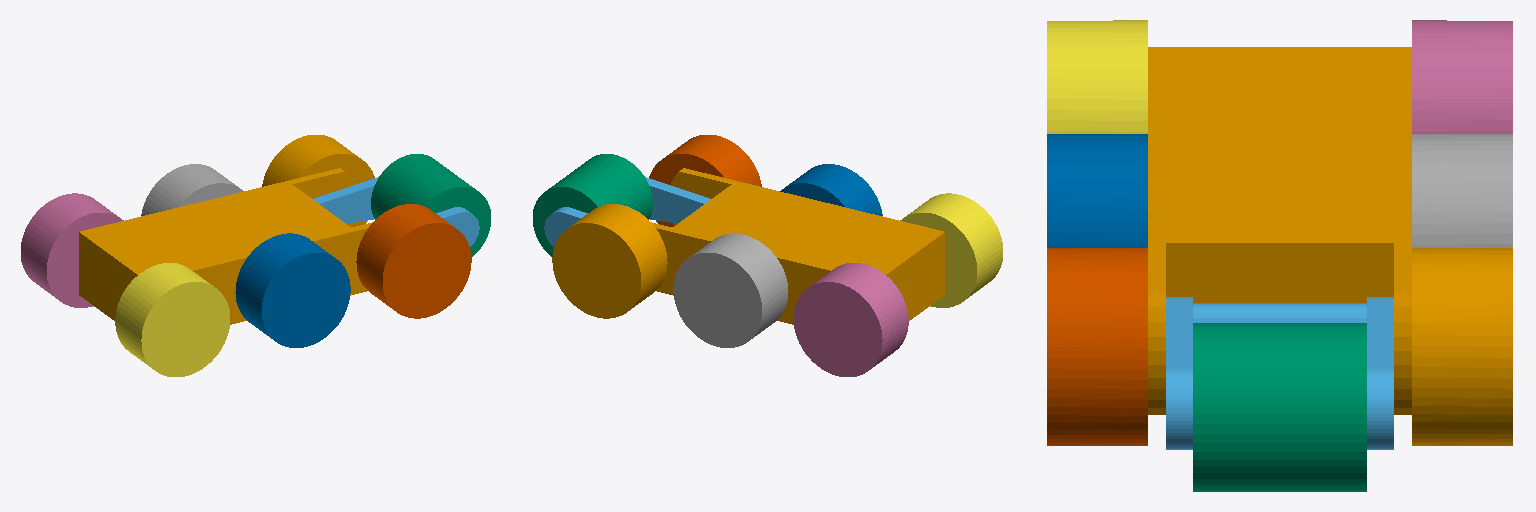
The robot description file, URDF, robot "fire_robot":
<?xml version="1.0"?>
<robot name="fire_robot">

  <!-- ========== base_link (루트) ========== -->
  <link name="base_link">
    <inertial>
      <origin xyz="0 0 0" rpy="0 0 0"/>
      <mass value="6.0"/>
      <inertia ixx="0.02" ixy="0" ixz="0" iyy="0.02" iyz="0" izz="0.02"/>
    </inertial>
    <visual>
      <origin xyz="0 0 0" rpy="0 0 0"/>
      <geometry>
        <mesh filename="package://fire_description/meshes/fire_robot/base_link_Body1.obj" scale="0.001 0.001 0.001"/>
      </geometry>
    </visual>
    <collision>
      <origin xyz="0 0 0" rpy="0 0 0"/>
      <geometry>
        <mesh filename="package://fire_description/meshes/fire_robot/base_link_Body1.obj" scale="0.001 0.001 0.001"/>
      </geometry>
    </collision>
  </link>

  <!-- ========== ARM ========== -->
  <joint name="arm_RevoluteJoint" type="revolute">
    <origin xyz="0.2765 0 0" rpy="0 0 0"/>
    <parent link="base_link"/>
    <child link="arm"/>
    <axis xyz="0 1 0"/>
    <limit lower="-0.5" upper="0.5" effort="50" velocity="1.0"/>
    <dynamics damping="0.05" friction="0.0"/>
  </joint>

  <link name="arm">
    <inertial>
      <origin xyz="0 0 0" rpy="0 0 0"/>
      <mass value="0.4"/>
      <inertia ixx="0.001" ixy="0" ixz="0" iyy="0.001" iyz="0" izz="0.001"/>
    </inertial>
    <visual>
      <!-- arm 메시가 절대 x=+0.2765였으므로 역오프셋 -->
      <origin xyz="-0.2765 0 0" rpy="0 0 0"/>
      <geometry>
        <mesh filename="package://fire_description/meshes/fire_robot/arm_Body1.obj" scale="0.001 0.001 0.001"/>
      </geometry>
    </visual>
    <collision>
      <origin xyz="-0.2765 0 0" rpy="0 0 0"/>
      <geometry>
        <mesh filename="package://fire_description/meshes/fire_robot/arm_Body1.obj" scale="0.001 0.001 0.001"/>
      </geometry>
    </collision>
  </link>

  <!-- ========== BLADE ========== -->
  <joint name="blade_RevoluteJoint" type="continuous">
    <!-- arm 기준: 0.5165 - 0.2765 = 0.2400 -->
    <origin xyz="0.2400 0 0" rpy="0 0 0"/>
    <parent link="arm"/>
    <child link="blade"/>
    <axis xyz="0 1 0"/>
    <dynamics damping="0.05" friction="0.0"/>
  </joint>

  <link name="blade">
    <inertial>
      <origin xyz="0 0 0" rpy="0 0 0"/>
      <mass value="2.7"/>
      <inertia ixx="0.005" ixy="0" ixz="0" iyy="0.005" iyz="0" izz="0.005"/>
    </inertial>
    <visual>
      <!-- blade 메시 절대 x=+0.5165 → 역오프셋 -->
      <origin xyz="-0.5165 0 0" rpy="0 0 0"/>
      <geometry>
        <mesh filename="package://fire_description/meshes/fire_robot/blade_Body1.obj" scale="0.001 0.001 0.001"/>
      </geometry>
    </visual>
    <collision>
      <origin xyz="-0.5165 0 0" rpy="0 0 0"/>
      <geometry>
        <mesh filename="package://fire_description/meshes/fire_robot/blade_Body1.obj" scale="0.001 0.001 0.001"/>
      </geometry>
    </collision>
  </link>

  <!-- ========== LEFT WHEELS (parent=base_link) ========== -->
  <joint name="left_wheel1_RevoluteJoint" type="continuous">
    <origin xyz="-0.2935 -0.15743 0" rpy="0 0 0"/>
    <parent link="base_link"/><child link="left_wheel1"/>
    <axis xyz="0 1 0"/><dynamics damping="0.05" friction="0.0"/>
    <limit effort="30" velocity="0.26"/>
  </joint>
  <link name="left_wheel1">
    <inertial><origin xyz="0 0 0" rpy="0 0 0"/>
      <mass value="2.5"/><inertia ixx="0.002" ixy="0" ixz="0" iyy="0.002" iyz="0" izz="0.002"/></inertial>
    <visual>
      <!-- 메시 절대 (-0.2935, -0.15743, 0) → 역오프셋 (+0.2935, +0.15743, 0) -->
      <origin xyz="0.2935 0.15743 0" rpy="0 0 0"/>
      <geometry><mesh filename="package://fire_description/meshes/fire_robot/left_wheel1_Body1.obj" scale="0.001 0.001 0.001"/></geometry>
    </visual>
    <collision>
      <origin xyz="0.2935 0.15743 0" rpy="0 0 0"/>
      <geometry><mesh filename="package://fire_description/meshes/fire_robot/left_wheel1_Body1.obj" scale="0.001 0.001 0.001"/></geometry>
    </collision>
  </link>

  <joint name="left_wheel2_RevoluteJoint" type="continuous">
    <origin xyz="0.025 -0.15743 0" rpy="0 0 0"/>
    <parent link="base_link"/><child link="left_wheel2"/>
    <axis xyz="0 1 0"/><dynamics damping="0.05" friction="0.0"/>
    <limit effort="30" velocity="0.26"/>
  </joint>
  <link name="left_wheel2">
    <inertial><origin xyz="0 0 0" rpy="0 0 0"/>
      <mass value="2.5"/><inertia ixx="0.002" ixy="0" ixz="0" iyy="0.002" iyz="0" izz="0.002"/></inertial>
    <visual>
      <!-- 절대 (0.025, -0.15743, 0) → 역오프셋 (-0.025, +0.15743, 0) -->
      <origin xyz="-0.025 0.15743 0" rpy="0 0 0"/>
      <geometry><mesh filename="package://fire_description/meshes/fire_robot/left_wheel2_Body1.obj" scale="0.001 0.001 0.001"/></geometry>
    </visual>
    <collision>
      <origin xyz="-0.025 0.15743 0" rpy="0 0 0"/>
      <geometry><mesh filename="package://fire_description/meshes/fire_robot/left_wheel2_Body1.obj" scale="0.001 0.001 0.001"/></geometry>
    </collision>
  </link>

  <joint name="left_wheel3_RevoluteJoint" type="continuous">
    <origin xyz="0.3455 -0.15743 0" rpy="0 0 0"/>
    <parent link="base_link"/><child link="left_wheel3"/>
    <axis xyz="0 1 0"/><dynamics damping="0.05" friction="0.0"/>
    <limit effort="30" velocity="0.26"/>
  </joint>
  <link name="left_wheel3">
    <inertial><origin xyz="0 0 0" rpy="0 0 0"/>
      <mass value="2.5"/><inertia ixx="0.002" ixy="0" ixz="0" iyy="0.002" iyz="0" izz="0.002"/></inertial>
    <visual>
      <!-- 절대 (0.3455, -0.15743, 0) → 역오프셋 (-0.3455, +0.15743, 0) -->
      <origin xyz="-0.3455 0.15743 0" rpy="0 0 0"/>
      <geometry><mesh filename="package://fire_description/meshes/fire_robot/left_wheel3_Body1.obj" scale="0.001 0.001 0.001"/></geometry>
    </visual>
    <collision>
      <origin xyz="-0.3455 0.15743 0" rpy="0 0 0"/>
      <geometry><mesh filename="package://fire_description/meshes/fire_robot/left_wheel3_Body1.obj" scale="0.001 0.001 0.001"/></geometry>
    </collision>
  </link>

  <!-- ========== RIGHT WHEELS ========== -->
  <joint name="right_wheel1_RevoluteJoint" type="continuous">
    <origin xyz="-0.2935 0.15743 0" rpy="0 0 0"/>
    <parent link="base_link"/><child link="right_wheel1"/>
    <axis xyz="0 1 0"/><dynamics damping="0.05" friction="0.0"/>
    <limit effort="30" velocity="0.26"/>
  </joint>
  <link name="right_wheel1">
    <inertial><origin xyz="0 0 0" rpy="0 0 0"/>
      <mass value="2.5"/><inertia ixx="0.002" ixy="0" ixz="0" iyy="0.002" iyz="0" izz="0.002"/></inertial>
    <visual>
      <!-- 절대 (-0.2935, +0.15743, 0) → 역오프셋 (+0.2935, -0.15743, 0) -->
      <origin xyz="0.2935 -0.15743 0" rpy="0 0 0"/>
      <geometry><mesh filename="package://fire_description/meshes/fire_robot/right_wheel1_Body1.obj" scale="0.001 0.001 0.001"/></geometry>
    </visual>
    <collision>
      <origin xyz="0.2935 -0.15743 0" rpy="0 0 0"/>
      <geometry><mesh filename="package://fire_description/meshes/fire_robot/right_wheel1_Body1.obj" scale="0.001 0.001 0.001"/></geometry>
    </collision>
  </link>

  <joint name="right_wheel2_RevoluteJoint" type="continuous">
    <origin xyz="0.025 0.15743 0" rpy="0 0 0"/>
    <parent link="base_link"/><child link="right_wheel2"/>
    <axis xyz="0 1 0"/><dynamics damping="0.05" friction="0.0"/>
    <limit effort="30" velocity="0.26"/>
  </joint>
  <link name="right_wheel2">
    <inertial><origin xyz="0 0 0" rpy="0 0 0"/>
      <mass value="2.5"/><inertia ixx="0.002" ixy="0" ixz="0" iyy="0.002" iyz="0" izz="0.002"/></inertial>
    <visual>
      <!-- 절대 (0.025, +0.15743, 0) → 역오프셋 (-0.025, -0.15743, 0) -->
      <origin xyz="-0.025 -0.15743 0" rpy="0 0 0"/>
      <geometry><mesh filename="package://fire_description/meshes/fire_robot/right_wheel2_Body1.obj" scale="0.001 0.001 0.001"/></geometry>
    </visual>
    <collision>
      <origin xyz="-0.025 -0.15743 0" rpy="0 0 0"/>
      <geometry><mesh filename="package://fire_description/meshes/fire_robot/right_wheel2_Body1.obj" scale="0.001 0.001 0.001"/></geometry>
    </collision>
  </link>

  <joint name="right_wheel3_RevoluteJoint" type="continuous">
    <origin xyz="0.3455 0.15743 0" rpy="0 0 0"/>
    <parent link="base_link"/><child link="right_wheel3"/>
    <axis xyz="0 1 0"/><dynamics damping="0.05" friction="0.0"/>
    <limit effort="30" velocity="0.26"/>
  </joint>
  <link name="right_wheel3">
    <inertial><origin xyz="0 0 0" rpy="0 0 0"/>
      <mass value="2.5"/><inertia ixx="0.002" ixy="0" ixz="0" iyy="0.002" iyz="0" izz="0.002"/></inertial>
    <visual>
      <!-- 절대 (0.3455, +0.15743, 0) → 역오프셋 (-0.3455, -0.15743, 0) -->
      <origin xyz="-0.3455 -0.15743 0" rpy="0 0 0"/>
      <geometry><mesh filename="package://fire_description/meshes/fire_robot/right_wheel3_Body1.obj" scale="0.001 0.001 0.001"/></geometry>
    </visual>
    <collision>
      <origin xyz="-0.3455 -0.15743 0" rpy="0 0 0"/>
      <geometry><mesh filename="package://fire_description/meshes/fire_robot/right_wheel3_Body1.obj" scale="0.001 0.001 0.001"/></geometry>
    </collision>
  </link>
<!-- Gazebo에서 ros2_control 사용 -->
<gazebo>
  <plugin name="gazebo_ros2_control" filename="libgazebo_ros2_control.so">
    <!-- 아래 YAML 경로는 네 패키지에 맞게 수정 -->
    <parameters>package://fire_description/config/ros2_control.yaml</parameters>
  </plugin>
</gazebo>

<!-- ros2_control 인터페이스 선언 -->
<ros2_control name="GazeboSystem" type="system">
  <hardware>
    <plugin>gazebo_ros2_control/GazeboSystem</plugin>
  </hardware>

  <!-- 바퀴는 속도 제어 -->
  <joint name="left_wheel1_RevoluteJoint">
    <command_interfaces>velocity</command_interfaces>
    <state_interfaces>position,velocity</state_interfaces>
  </joint>
  <joint name="left_wheel2_RevoluteJoint">
    <command_interfaces>velocity</command_interfaces>
    <state_interfaces>position,velocity</state_interfaces>
  </joint>
  <joint name="left_wheel3_RevoluteJoint">
    <command_interfaces>velocity</command_interfaces>
    <state_interfaces>position,velocity</state_interfaces>
  </joint>
  <joint name="right_wheel1_RevoluteJoint">
    <command_interfaces>velocity</command_interfaces>
    <state_interfaces>position,velocity</state_interfaces>
  </joint>
  <joint name="right_wheel2_RevoluteJoint">
    <command_interfaces>velocity</command_interfaces>
    <state_interfaces>position,velocity</state_interfaces>
  </joint>
  <joint name="right_wheel3_RevoluteJoint">
    <command_interfaces>velocity</command_interfaces>
    <state_interfaces>position,velocity</state_interfaces>
  </joint>

  <!-- 암/블레이드는 위치 제어 (원하면 effort/velocity로 바꿔도 됨) -->
  <joint name="arm_RevoluteJoint">
    <command_interfaces>position</command_interfaces>
    <state_interfaces>position,velocity</state_interfaces>
  </joint>
  <joint name="blade_RevoluteJoint">
    <command_interfaces>position</command_interfaces>
    <state_interfaces>position,velocity</state_interfaces>
  </joint>
</ros2_control>


  <!-- ========= Gazebo 접촉 파라미터 : 안정화 ========= -->
  <gazebo reference="left_wheel1"><mu1>1.0</mu1><mu2>1.0</mu2><kp>1e5</kp><kd>1.0</kd></gazebo>
  <gazebo reference="left_wheel2"><mu1>1.0</mu1><mu2>1.0</mu2><kp>1e5</kp><kd>1.0</kd></gazebo>
  <gazebo reference="left_wheel3"><mu1>1.0</mu1><mu2>1.0</mu2><kp>1e5</kp><kd>1.0</kd></gazebo>
  <gazebo reference="right_wheel1"><mu1>1.0</mu1><mu2>1.0</mu2><kp>1e5</kp><kd>1.0</kd></gazebo>
  <gazebo reference="right_wheel2"><mu1>1.0</mu1><mu2>1.0</mu2><kp>1e5</kp><kd>1.0</kd></gazebo>
  <gazebo reference="right_wheel3"><mu1>1.0</mu1><mu2>1.0</mu2><kp>1e5</kp><kd>1.0</kd></gazebo>

</robot>

--- What the picture shows (computed from the rendered views, not written in the file) ---
The picture shows the robot from 3 angles, left to right: view 1: azimuth 30°, elevation 25°; view 2: azimuth 150°, elevation 25°; view 3: azimuth 270°, elevation 25°; orthographic projection.
Model fire_robot with 9 links and 8 joints (1 revolute, 7 continuous), rooted at base_link, posed every joint at zero.
Links seen in each view (by area): view 1: base_link, left_wheel3, left_wheel2, left_wheel1, right_wheel1, blade, right_wheel3, right_wheel2, arm; view 2: base_link, right_wheel2, right_wheel3, right_wheel1, left_wheel1, blade, left_wheel3, left_wheel2, arm; view 3: base_link, blade, left_wheel3, right_wheel3, arm, left_wheel2, right_wheel2, left_wheel1, right_wheel1.
Boxes of the visible links, <box> form: base_link: <box>79,168,372,324</box>; left_wheel3: <box>356,204,471,318</box>; left_wheel2: <box>235,233,350,347</box>; left_wheel1: <box>115,263,229,376</box>; right_wheel1: <box>21,193,123,307</box>; blade: <box>371,154,490,256</box>; right_wheel3: <box>262,135,374,226</box>; right_wheel2: <box>141,164,243,215</box>; arm: <box>313,177,479,246</box>; base_link: <box>651,168,944,324</box>; right_wheel2: <box>673,233,788,347</box>; right_wheel3: <box>552,204,667,318</box>; right_wheel1: <box>794,263,908,376</box>; left_wheel1: <box>900,193,1002,307</box>; blade: <box>533,154,652,256</box>; left_wheel3: <box>649,135,761,226</box>; left_wheel2: <box>780,164,882,215</box>; arm: <box>544,177,710,246</box>; base_link: <box>1148,47,1411,414</box>; blade: <box>1193,323,1366,491</box>; left_wheel3: <box>1047,248,1147,445</box>; right_wheel3: <box>1412,248,1512,445</box>; arm: <box>1166,297,1393,449</box>; left_wheel2: <box>1047,134,1147,247</box>; right_wheel2: <box>1412,134,1512,247</box>; left_wheel1: <box>1047,20,1147,133</box>; right_wheel1: <box>1412,20,1512,133</box>.
Size in the robot's own frame: 1.03 by 0.5549 by 0.2358 metres.
Meshes: 9 distinct files referenced, 9 mesh visuals loaded (9 OBJ).
